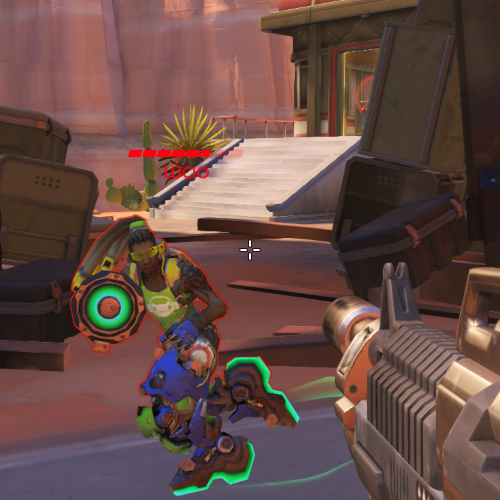hpbar: (127, 149, 244, 158)
